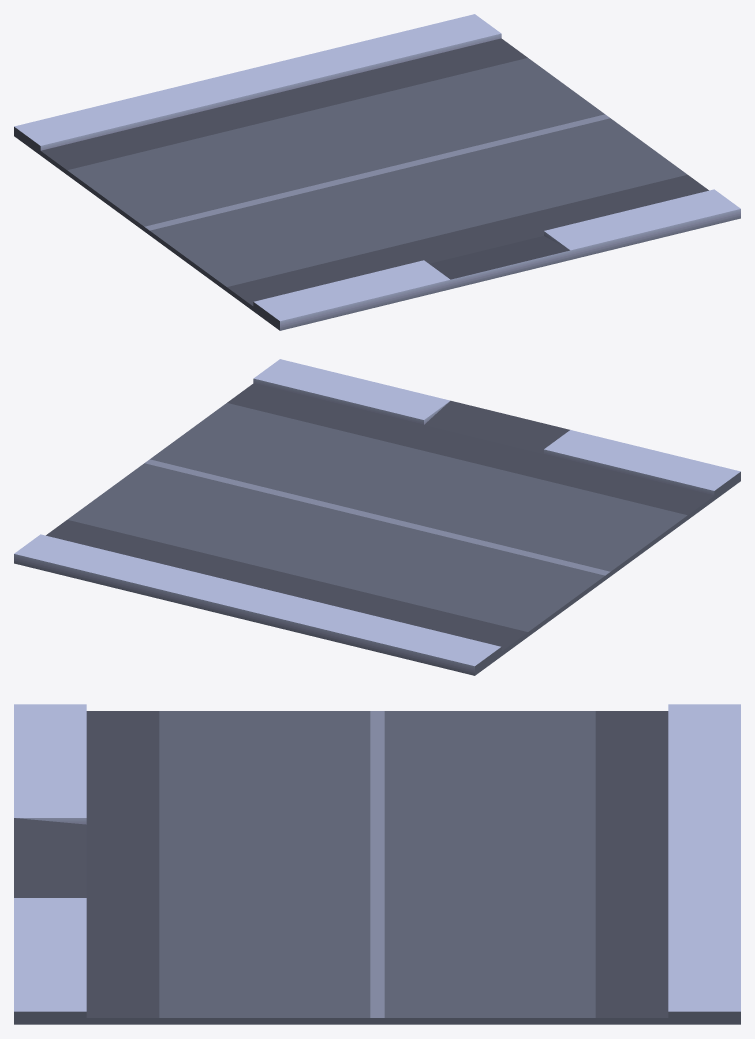
Rendered from road-driveway-single.glb.
3 views of the same model, one above another, from view 1: azimuth 30°, elevation 25°; view 2: azimuth 150°, elevation 25°; view 3: azimuth 270°, elevation 25° (orthographic). The views are drawn at different scales.
Parts seen in each view (by area): view 1: road-driveway-single; view 2: road-driveway-single; view 3: road-driveway-single.
Boxes of the visible parts, <box> form: road-driveway-single: <box>14,14,740,330</box>; road-driveway-single: <box>14,359,740,675</box>; road-driveway-single: <box>14,704,740,1024</box>.
Size of the model in its own units: 1 by 0.02 by 1.
Materials: 1 (1 with a texture image).
